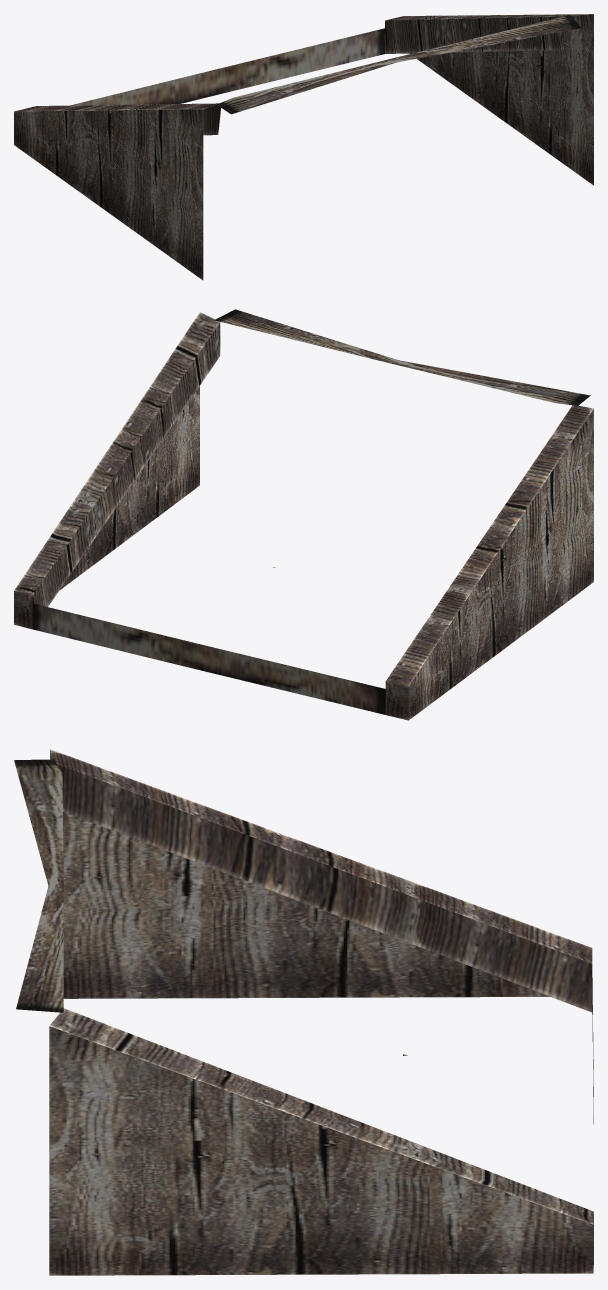
File: tizi12.obj
3 renders of one model, top to bottom at view 1: azimuth 30°, elevation 25°; view 2: azimuth 150°, elevation 25°; view 3: azimuth 270°, elevation 25°, orthographic. The views are drawn at different scales.
Parts seen in each view (by area): view 1: tizi12; view 2: tizi12; view 3: tizi12.
Boxes of the visible parts, x1,y1,x2,y2 form: tizi12: (14,14,593,280); tizi12: (14,309,593,720); tizi12: (14,749,593,1275).
Size of the model in its own units: 101 by 42.08 by 88.52.
